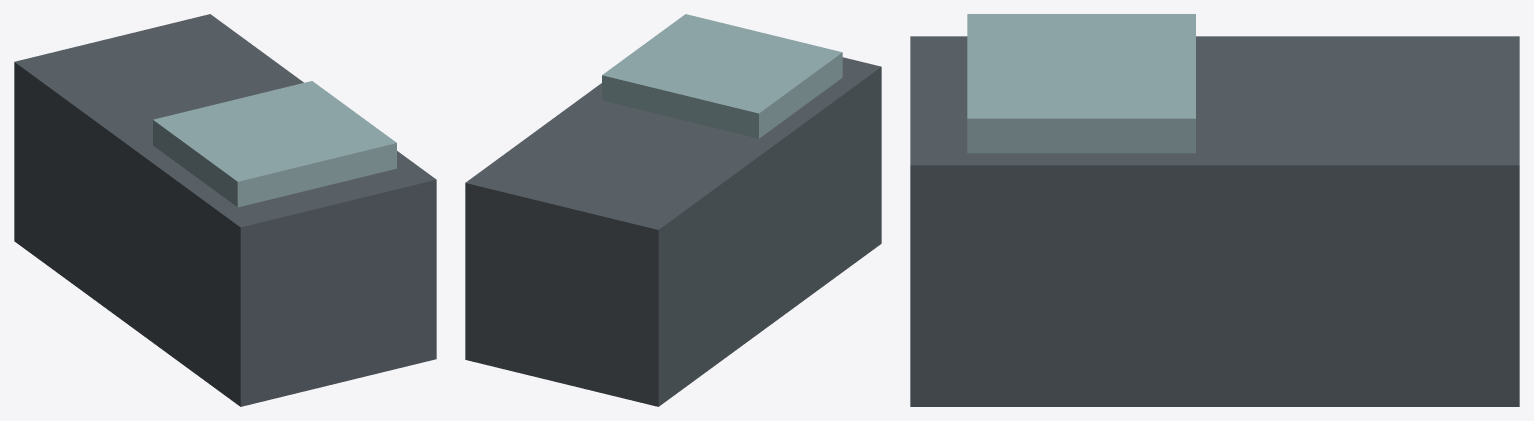
Rendered from pos_terminal.glb.
The picture shows the model from 3 angles, left to right: view 1: azimuth 30°, elevation 25°; view 2: azimuth 150°, elevation 25°; view 3: azimuth 270°, elevation 25°; orthographic projection. The views are drawn at different scales.
Visible parts, largest first — view 1: body; view 2: body; view 3: body.
Boxes of the visible parts, <box> form: body: <box>14,14,436,406</box>; body: <box>465,14,881,406</box>; body: <box>910,14,1519,406</box>.
Size of the model in its own units: 0.08 by 0.08 by 0.16.
